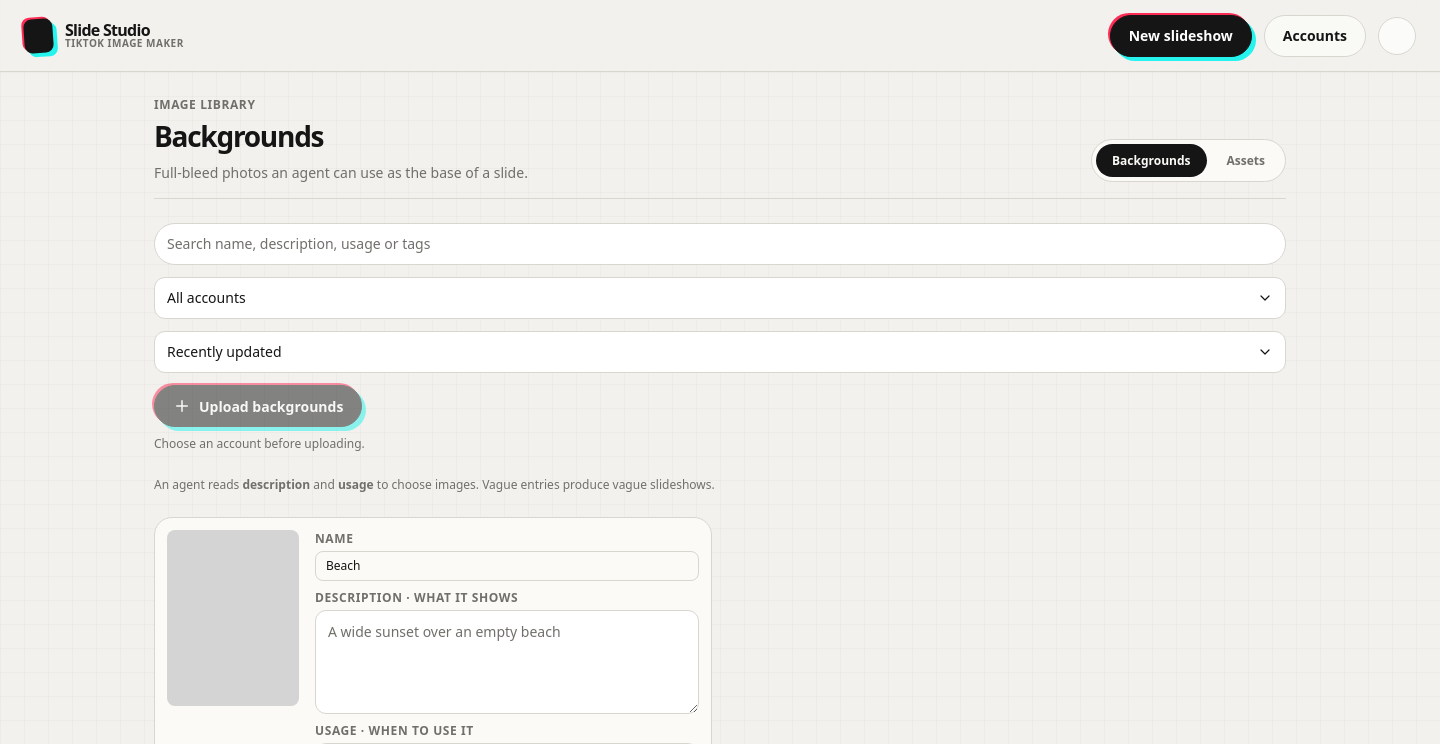
it: switches between backgrounds and assets by route
Click the link "Assets" at (1246, 160), box [1226,152,1265,169]
(page scrolled)
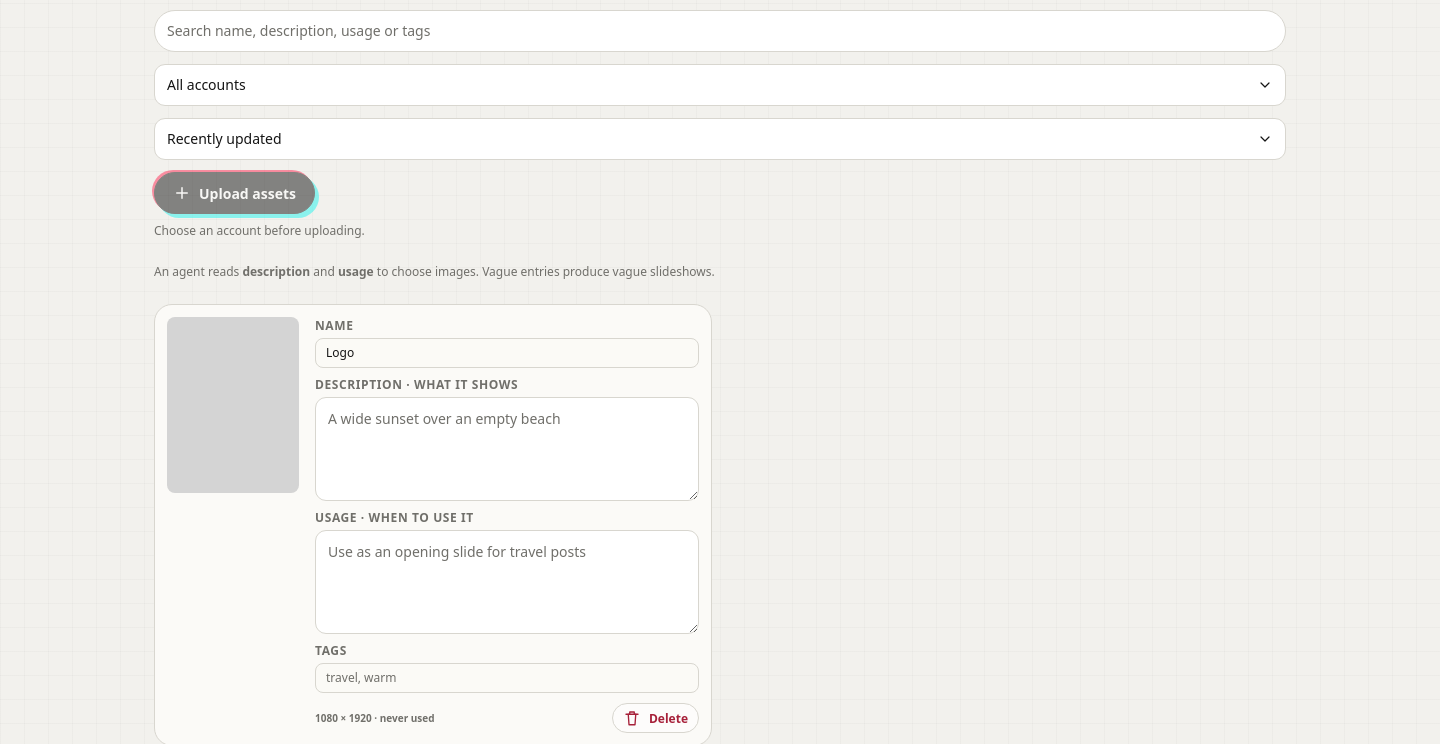
Expected: the button with aria-label "Delete Logo" is shown, [612,703,699,733]
